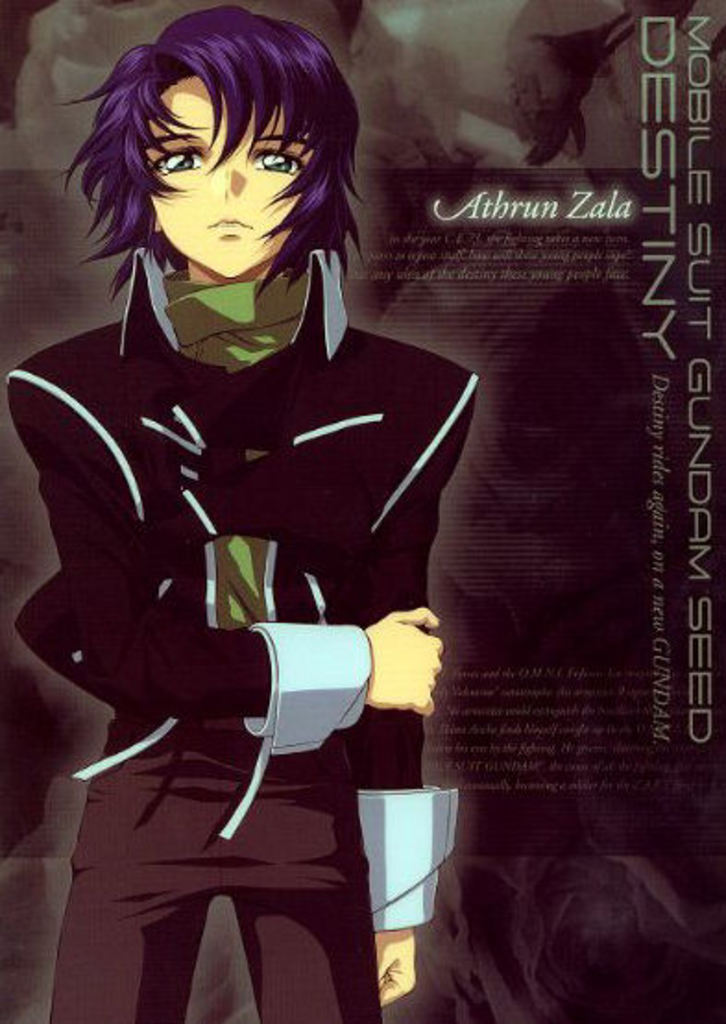Person: (8, 6, 481, 1022)
